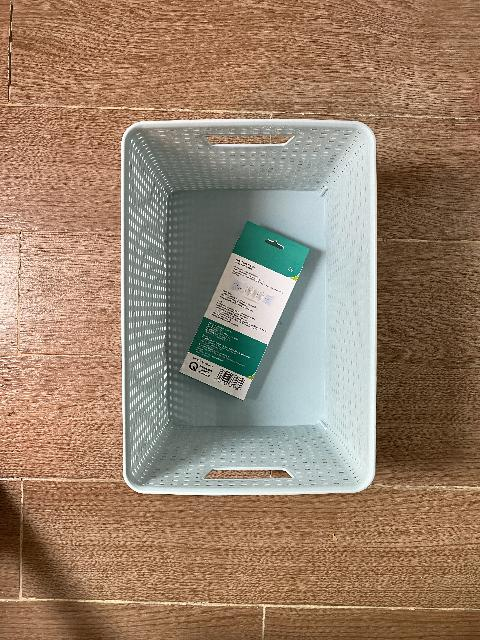4D_medical_face-mask: (179, 221, 310, 401)
cart: (120, 118, 378, 497)
